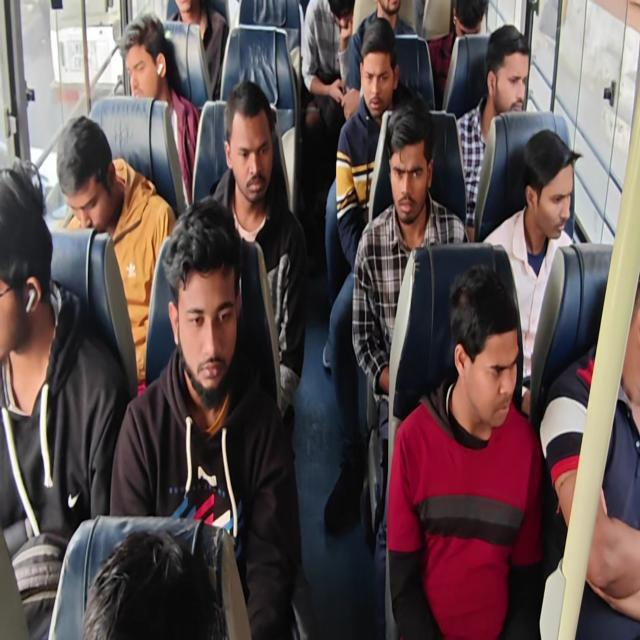person: (89, 531, 228, 640), (166, 232, 243, 396), (53, 124, 111, 248), (0, 184, 38, 371), (458, 303, 518, 418), (110, 33, 171, 119), (230, 118, 277, 219), (534, 149, 579, 246), (386, 124, 426, 228), (492, 21, 528, 130), (359, 40, 390, 119), (160, 0, 210, 39), (451, 0, 485, 56), (308, 0, 354, 36), (366, 0, 404, 32)
